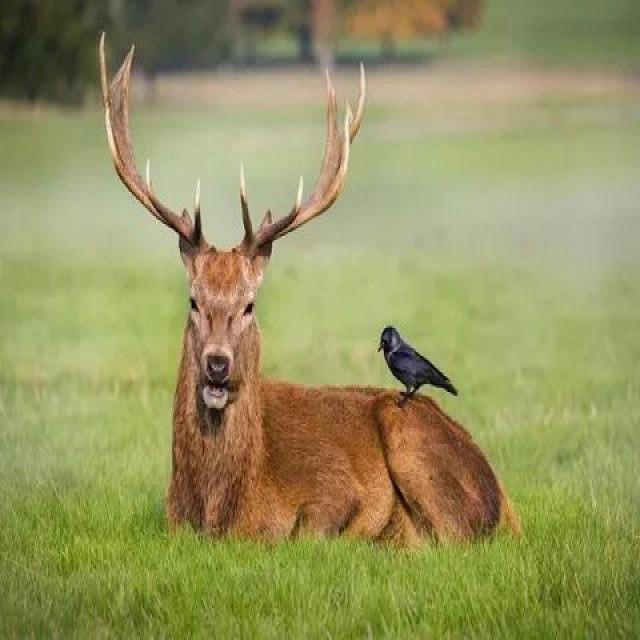deer: (123, 94, 544, 613)
